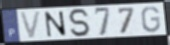7: (94, 7, 112, 38), (117, 6, 136, 35)
G: (140, 6, 162, 34)
N: (43, 11, 69, 38)
S: (67, 8, 93, 38)
V: (18, 10, 43, 40)
